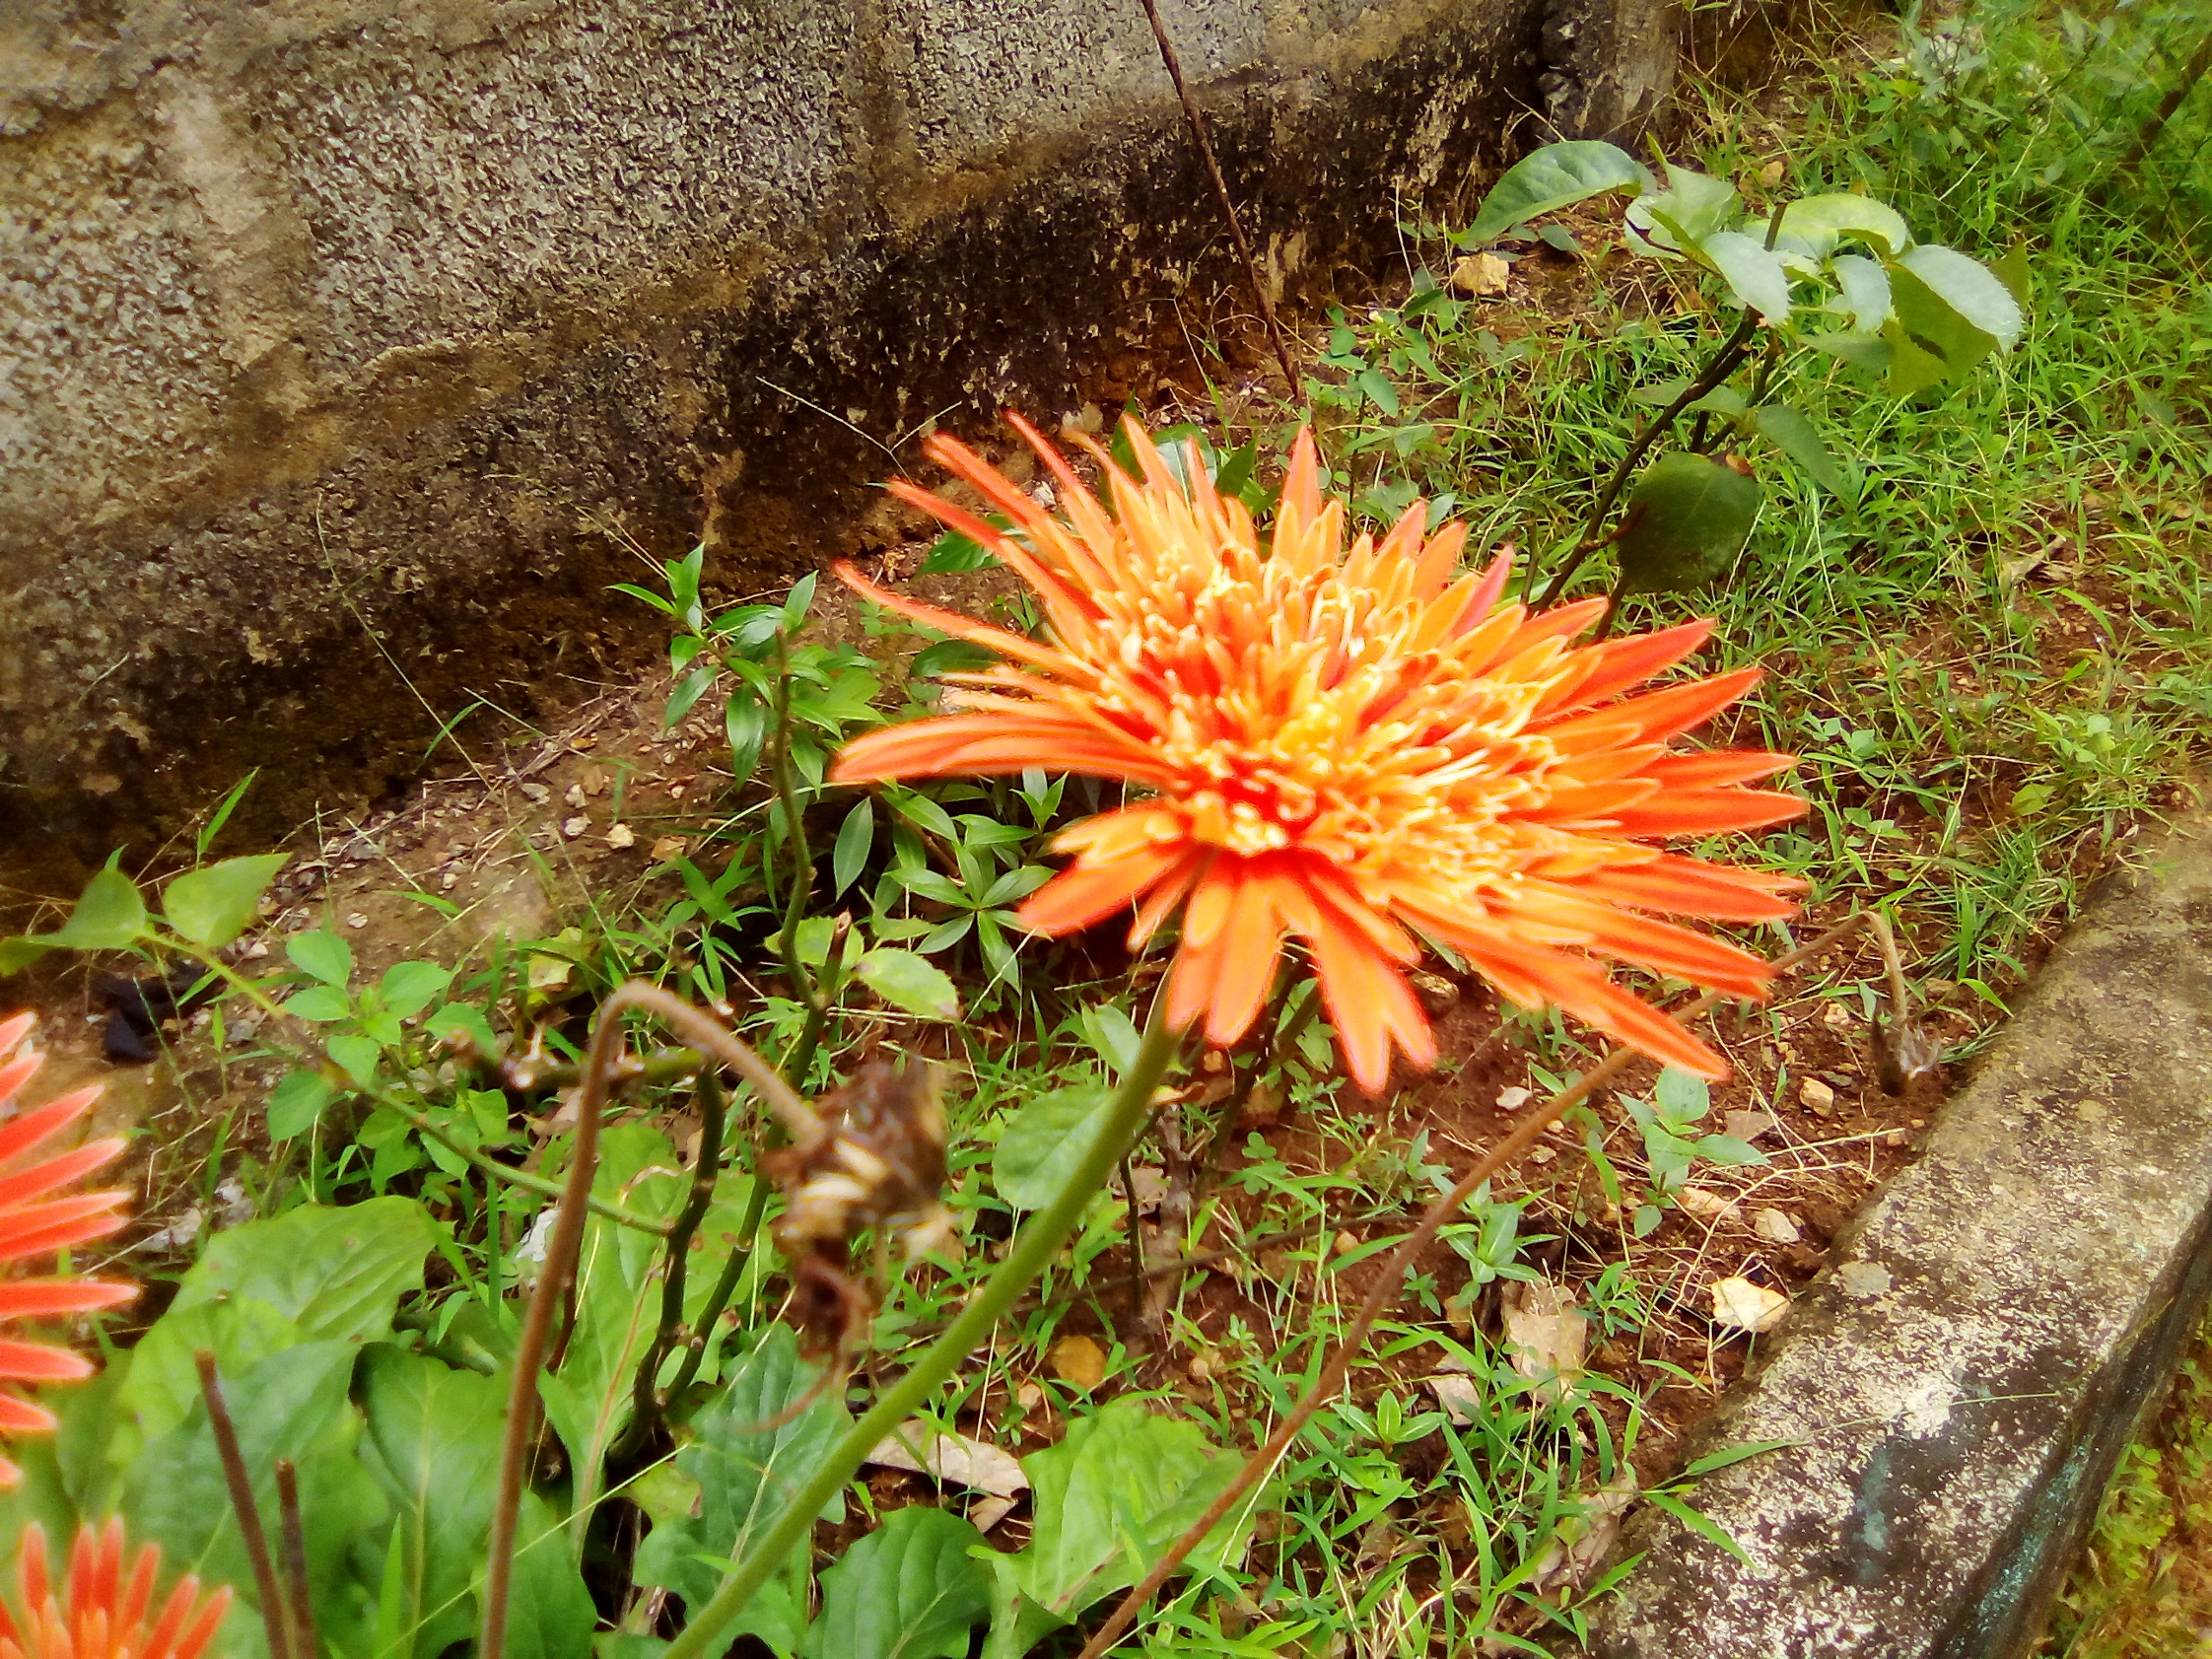ginimala: (827, 403, 1820, 1068)
